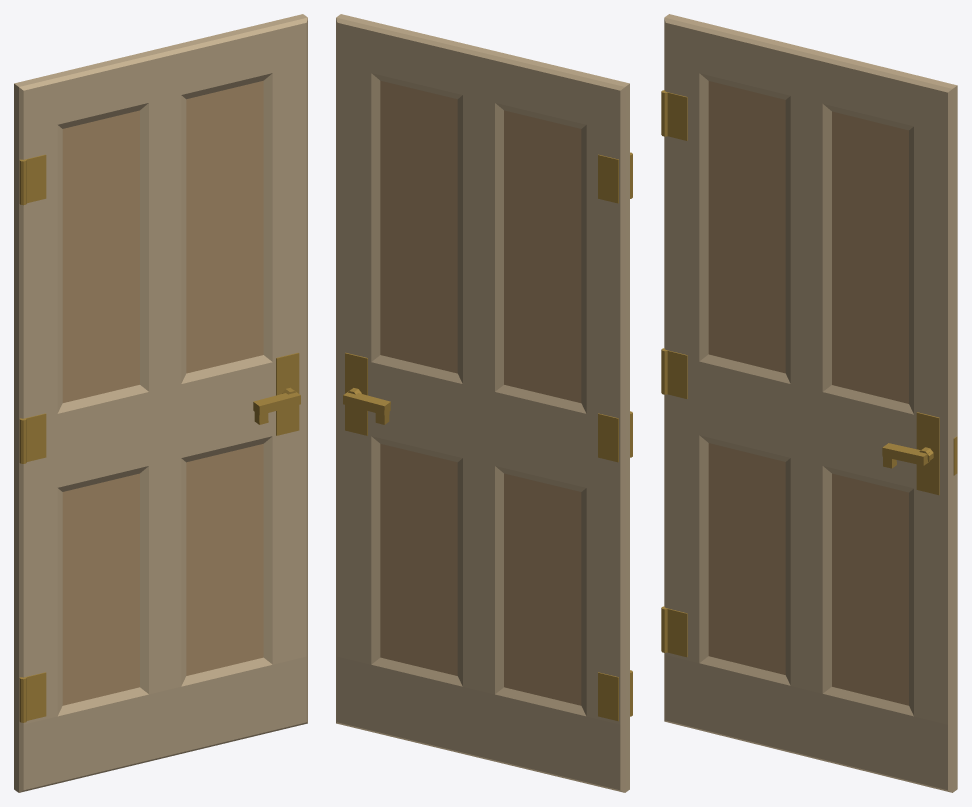
File: interior-door-leaf-a02f28.glb
The picture shows the model from 3 angles, left to right: view 1: azimuth 30°, elevation 25°; view 2: azimuth 150°, elevation 25°; view 3: azimuth 330°, elevation 25°; orthographic projection.
Visible parts, largest first — view 1: leaf; view 2: leaf; view 3: leaf.
Part boxes in pixels (<box>): leaf: <box>14,14,307,792</box>; leaf: <box>336,14,632,792</box>; leaf: <box>661,14,957,792</box>.
Bounding box in the file's own units: 0.9032 × 2.1 × 0.145.
